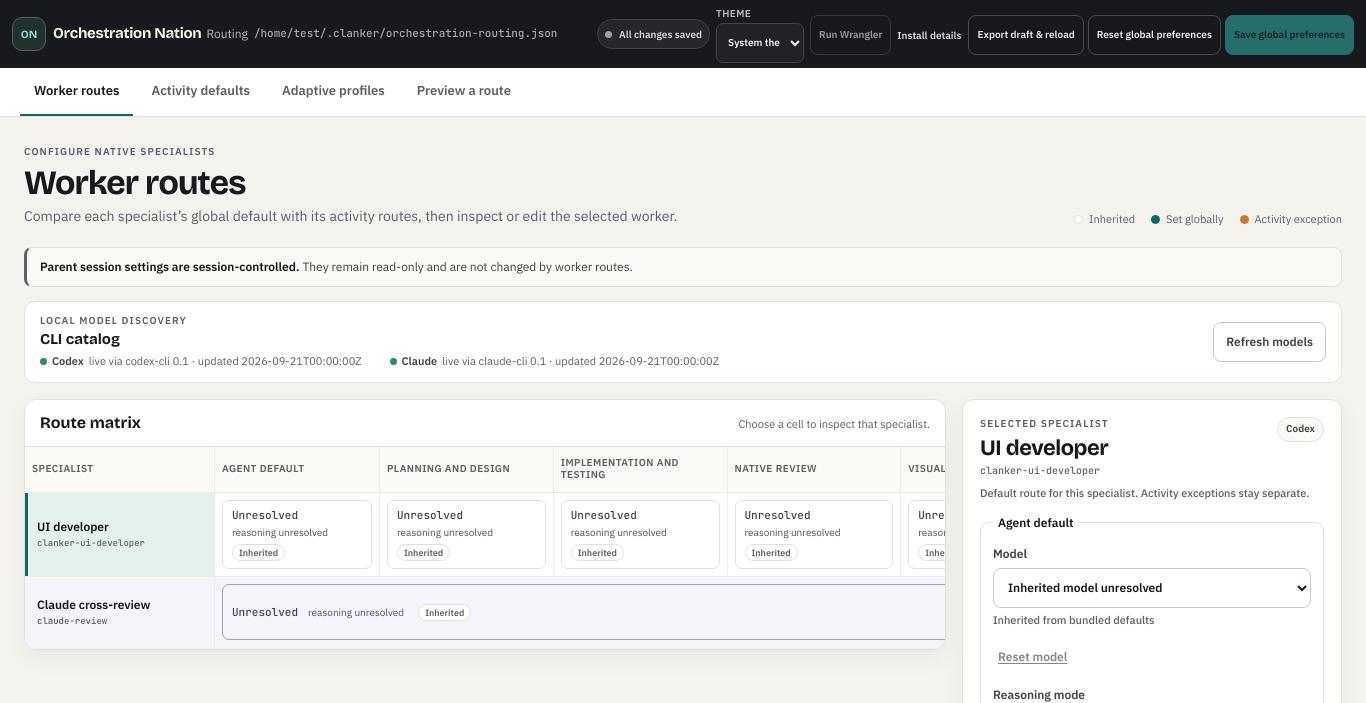
Test case: routing editor › keeps Claude cross-review in Worker routes and activity defaults limited to Codex
Step 1. Click the tab "Activity defaults" → (201, 92), box [138,68,264,116]
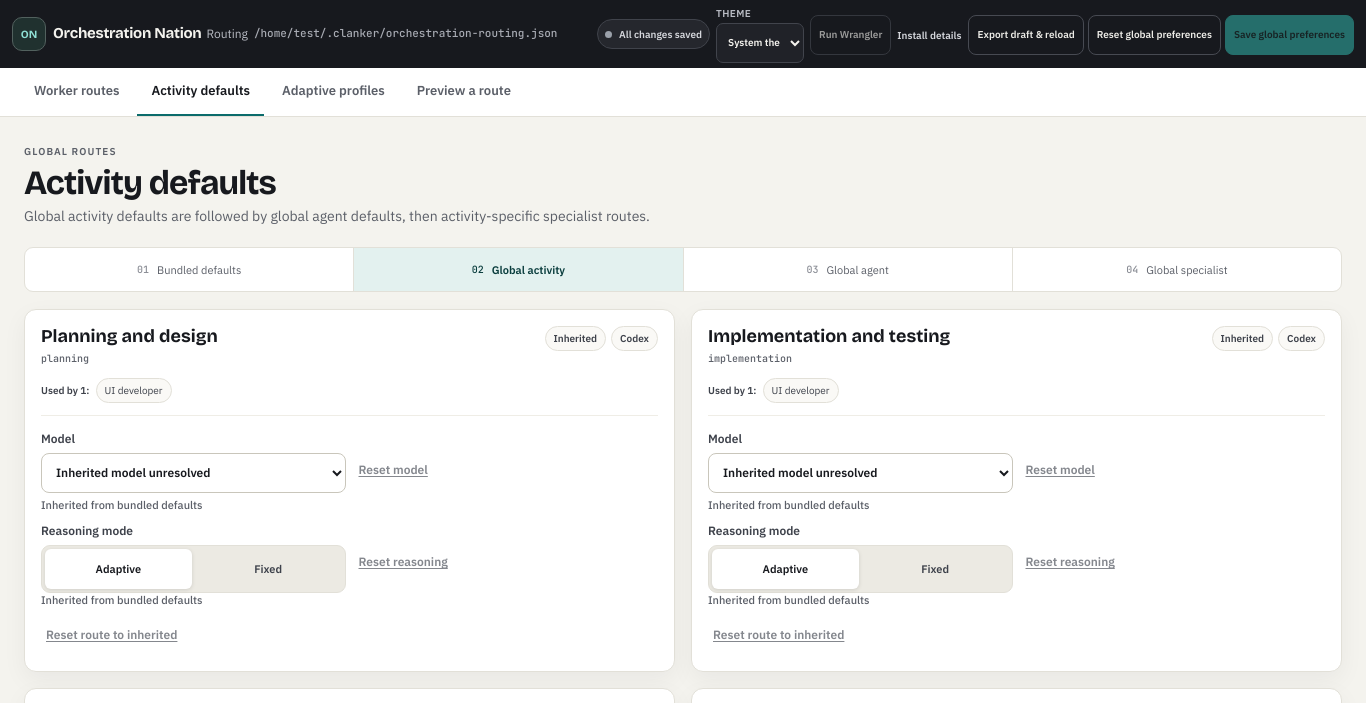
Step 2. Click the tab "Worker routes" → (77, 92), box [20,68,134,116]
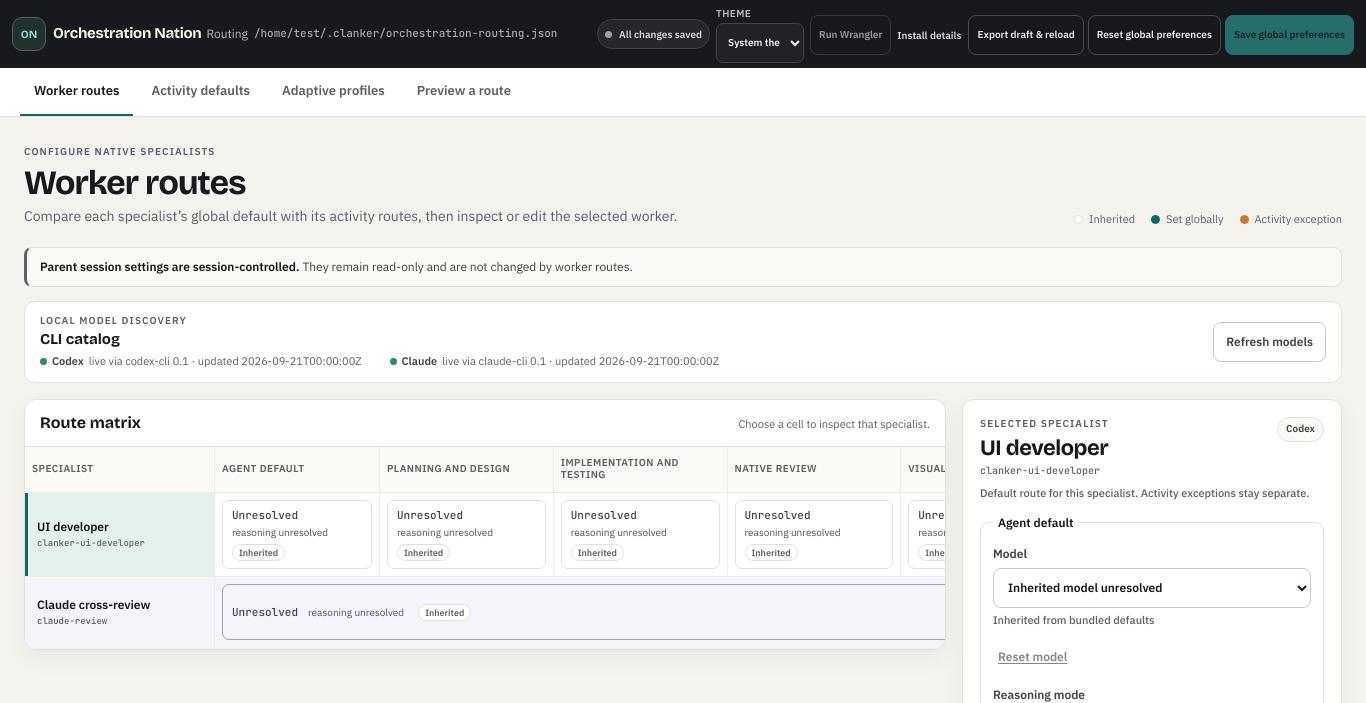
Check: the number of rows with class "claude-row" is 1, box [25,577,945,649]
Step 3. Click the 6th button with class "route-cell" → (265, 612), box [222,584,1067,640]
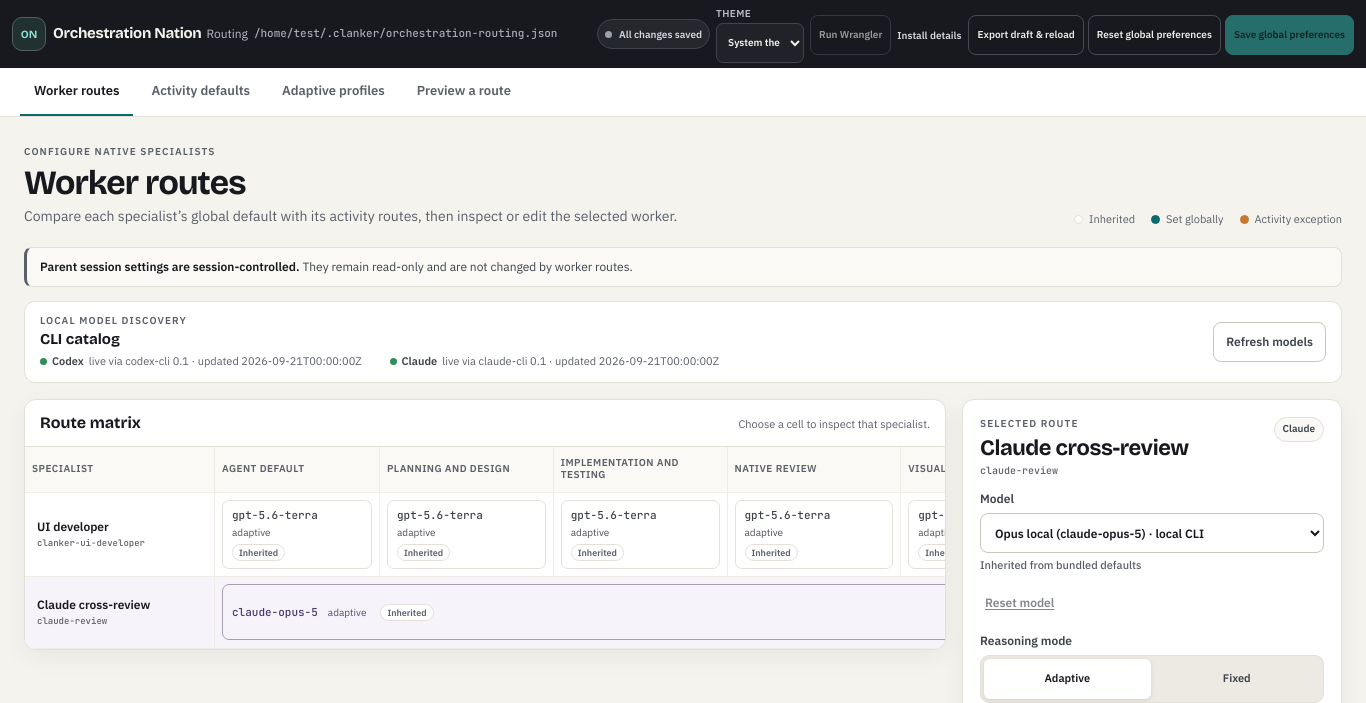
Check: the heading "Claude cross-review" is shown, box [980,436,1189,461]
